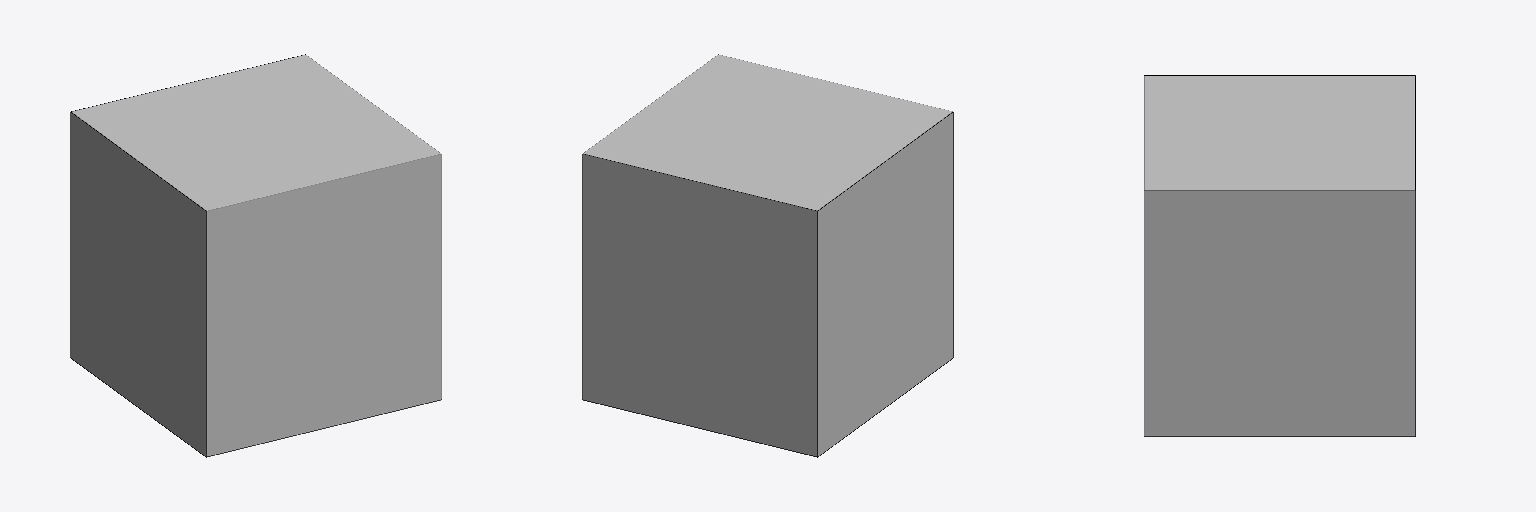
3 views of the same model, side by side, from view 1: azimuth 30°, elevation 25°; view 2: azimuth 150°, elevation 25°; view 3: azimuth 270°, elevation 25° (orthographic).
Parts seen in each view (by area): view 1: Cube; view 2: Cube; view 3: Cube.
Part boxes in pixels (x1,y1,x2,y2): Cube: (70,54,441,457); Cube: (582,54,953,457); Cube: (1144,75,1415,436).
Size of the model in its own units: 2 by 2 by 2.
Materials: 1 (1 with a texture image).